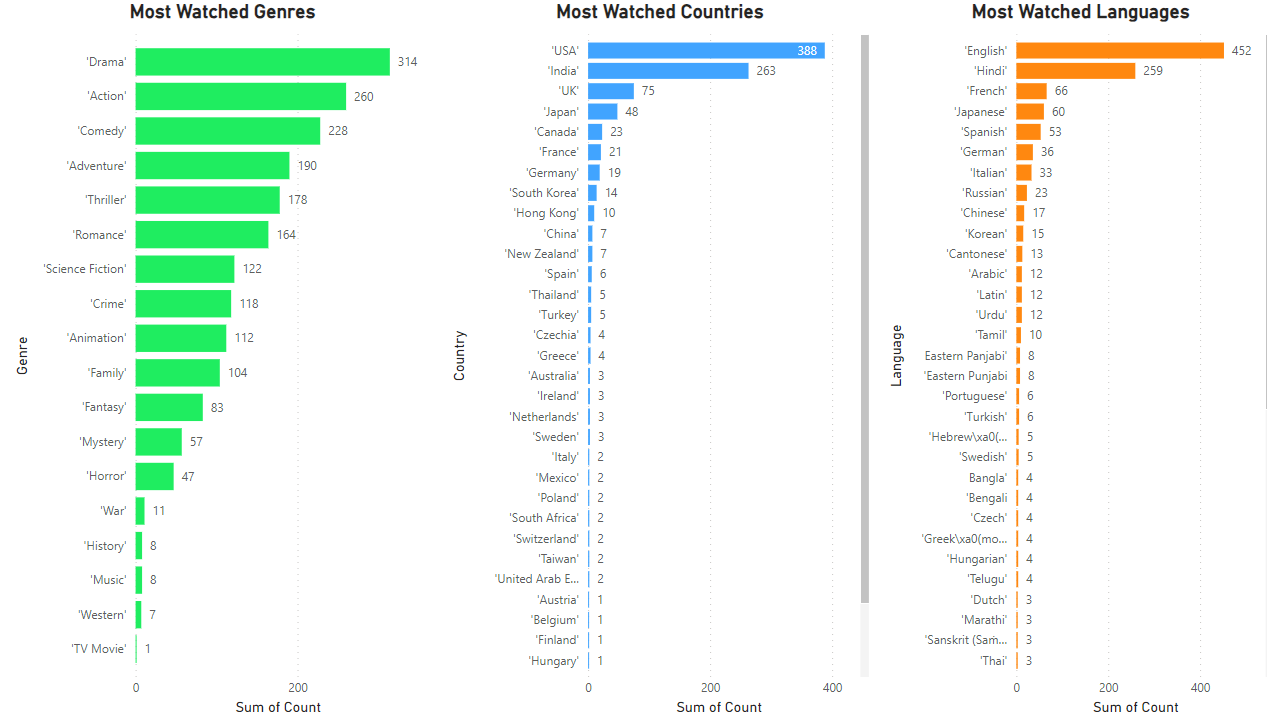

The dashboard page shown, as its layout file describes it:
{"tool":"powerbi","page":{"name":"Most Watched Genres, Countries & Languages","canvas":[1280,720],"ordinal":3},"visuals":[{"type":"clusteredBarChart","title":"Most Watched Genres","fields":{"Category":["Genre.Genre"],"Y":["Sum(Genre.Count)"]},"box":[10,0,427.1,720],"z":0},{"type":"clusteredBarChart","title":"Most Watched Countries","fields":{"Category":["Country.Country"],"Y":["Sum(Country.Count)"]},"box":[447,0,427,720],"z":1000},{"type":"clusteredBarChart","title":"Most Watched Languages","fields":{"Category":["Language.Language"],"Y":["Sum(Language.Count)"]},"box":[884,0,396,720],"z":2000}]}

Visuals, with their boxes in screenshot pixels (x1, y1, x2, y2), scaled from the page's 1280x720 canvas onto the 1267x719 screenshot:
"Most Watched Genres" clusteredBarChart: detection(10, 0, 433, 718)
"Most Watched Countries" clusteredBarChart: detection(442, 0, 865, 718)
"Most Watched Languages" clusteredBarChart: detection(875, 0, 1266, 718)
